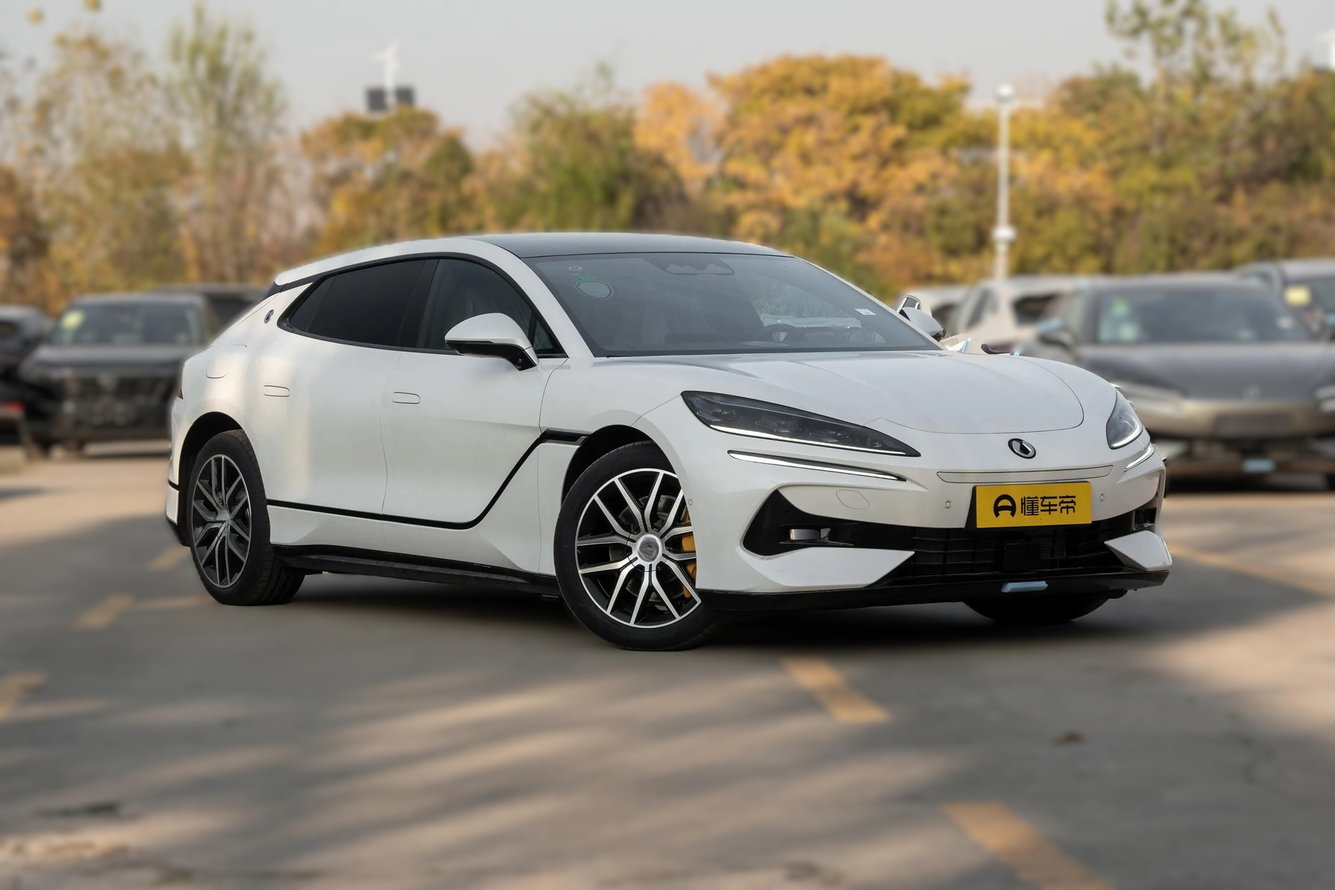DENZA: (1012, 440, 1034, 456)
